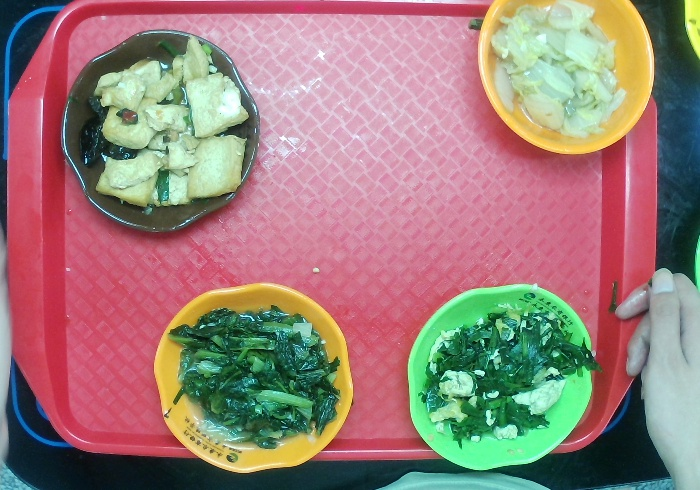YKMZ-Ju_Se_Ao_Bian_Wan: (148, 278, 359, 479)
YKMZ-Ju_Se_Yuan_Wan: (470, 1, 659, 159)
YKMZ-Ka_Fei_Ao_Bian_Wan: (55, 25, 263, 238)
YKMZ-Lv_Se_Ao_Bian_Wan: (404, 280, 596, 474)
